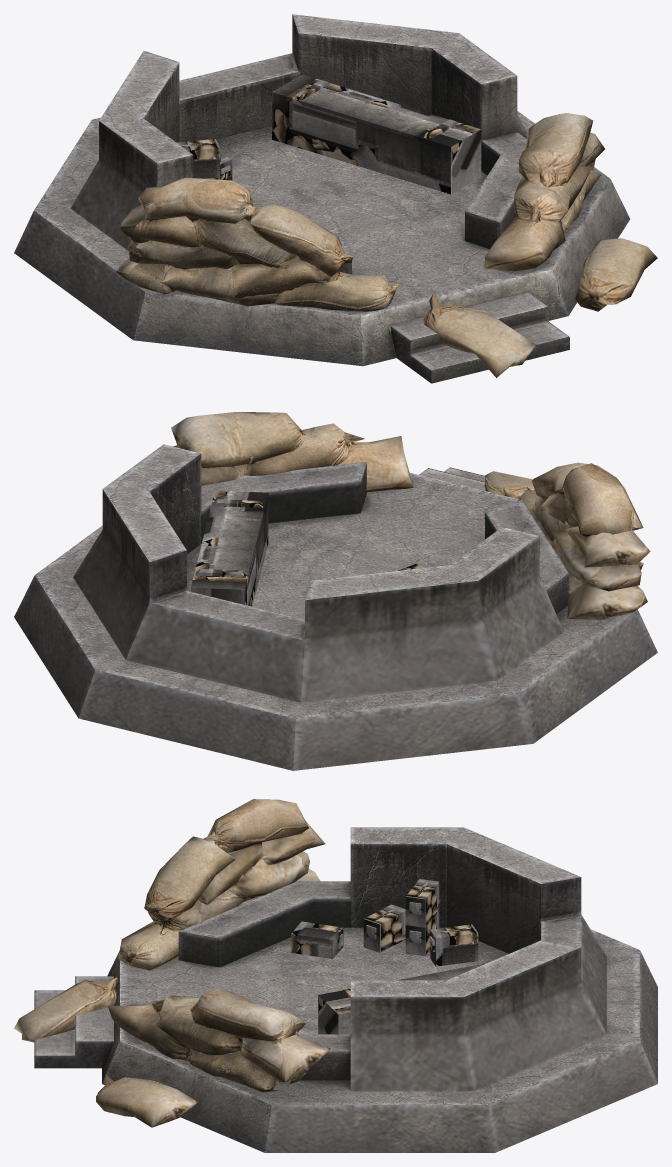
Rendered from Turret_Mesh_BH06.fbx.
3 renders of one model, top to bottom at view 1: azimuth 30°, elevation 25°; view 2: azimuth 150°, elevation 25°; view 3: azimuth 270°, elevation 25°, orthographic. The views are drawn at different scales.
Parts seen in each view (by area): view 1: Turret_Mesh_BH06, Turret__Gun_crate, Turret__Ammo_Crate; view 2: Turret_Mesh_BH06, Turret__Gun_crate; view 3: Turret_Mesh_BH06, Turret__Ammo_Crate, Turret__Gun_crate.
Boxes of the visible parts, x1,y1,x2,y2 form: Turret_Mesh_BH06: [14, 14, 657, 383]; Turret__Gun_crate: [272, 74, 481, 194]; Turret__Ammo_Crate: [176, 139, 232, 180]; Turret_Mesh_BH06: [14, 412, 657, 770]; Turret__Gun_crate: [191, 490, 268, 606]; Turret_Mesh_BH06: [14, 799, 657, 1152]; Turret__Ammo_Crate: [291, 879, 478, 966]; Turret__Gun_crate: [318, 962, 488, 1034].
Size of the model in its own units: 1374 by 398 by 1582.
